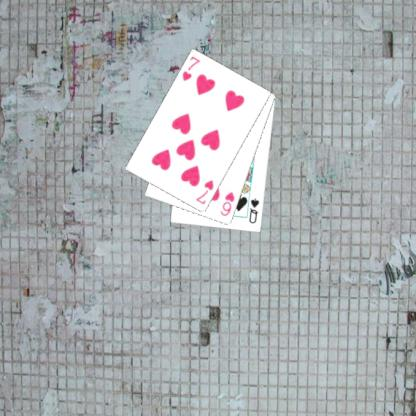6H: (218, 189, 236, 218)
7H: (193, 177, 215, 206), (180, 53, 201, 83)
QS: (246, 196, 260, 225)
